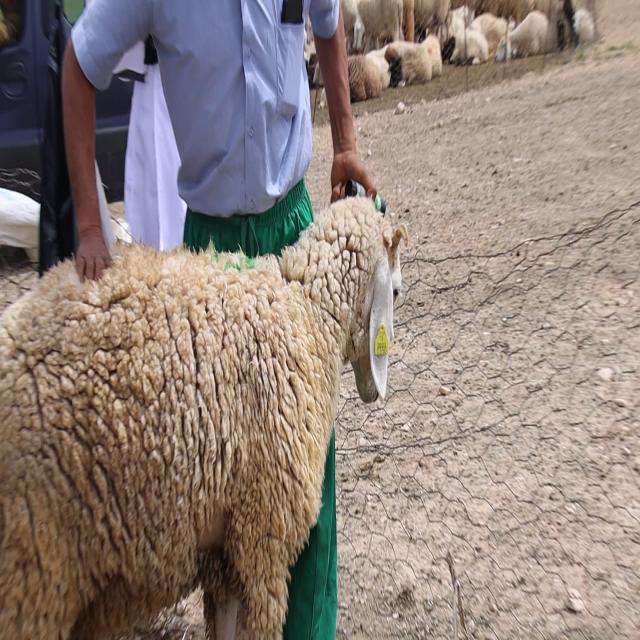Score_2: (0, 196, 408, 639)
